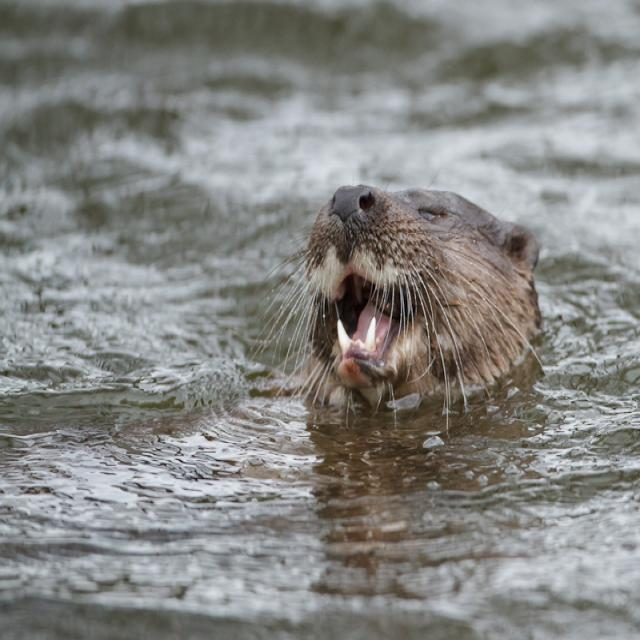otter: (310, 187, 538, 407)
